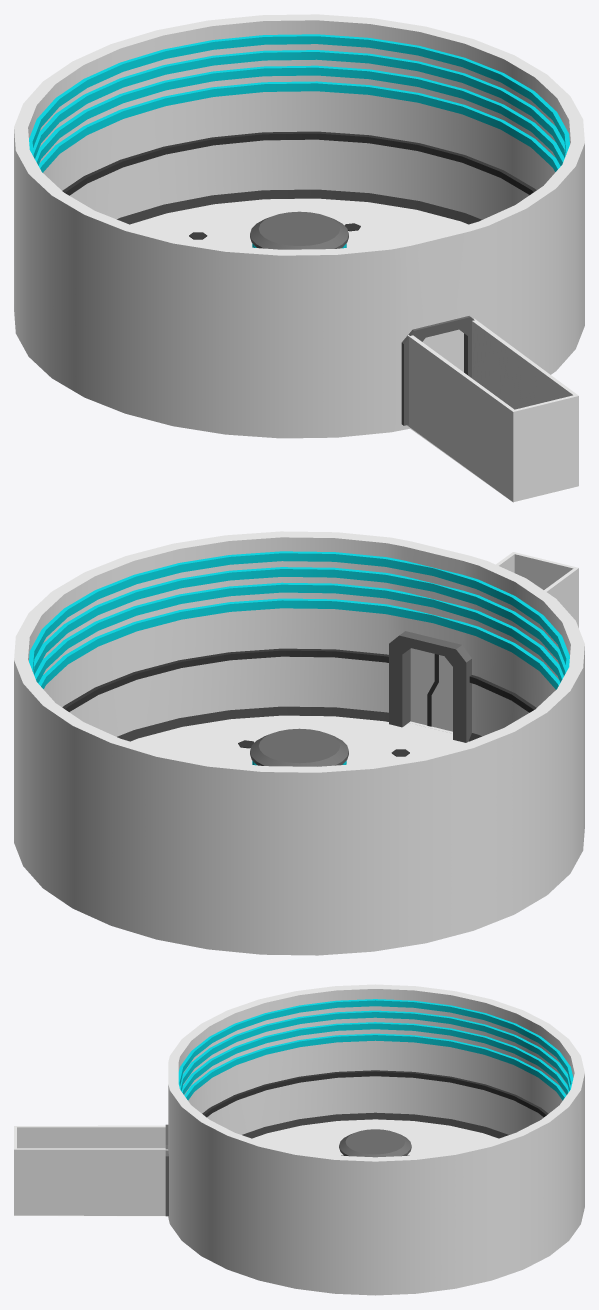
The model's file is ElevatorRoom (7).fbx.
3 views of the same model, one above another, from view 1: azimuth 30°, elevation 25°; view 2: azimuth 150°, elevation 25°; view 3: azimuth 270°, elevation 25° (orthographic). The views are drawn at different scales.
Parts seen in each view (by area): view 1: Room.001, Cylinder.007, Room.015, Room.007, Room.003, Room.014, Room.016, Room.008, Door1.006; view 2: Room.001, Cylinder.007, Room.007, Room.008, Room.016, Door1.006, Door2.006, Room.003, Room.015; view 3: Room.001, Cylinder.007, Room.014, Room.007, Room.015, Room.016.
Boxes of the visible parts, x1,y1,x2,y2 form: Room.001: [14, 14, 584, 438]; Cylinder.007: [29, 34, 569, 172]; Room.015: [407, 335, 514, 501]; Room.007: [130, 198, 468, 247]; Room.003: [513, 395, 578, 502]; Room.014: [472, 318, 578, 409]; Room.016: [250, 211, 348, 249]; Room.008: [401, 316, 474, 425]; Door1.006: [435, 329, 463, 372]; Room.001: [14, 531, 584, 955]; Cylinder.007: [29, 551, 569, 689]; Room.007: [131, 715, 468, 764]; Room.008: [389, 631, 471, 742]; Room.016: [250, 728, 348, 766]; Door1.006: [410, 648, 438, 725]; Door2.006: [427, 654, 452, 731]; Room.003: [513, 552, 578, 589]; Room.015: [544, 568, 578, 627]; Room.001: [168, 984, 584, 1295]; Cylinder.007: [178, 999, 573, 1100]; Room.014: [14, 1148, 168, 1215]; Room.007: [252, 1119, 498, 1155]; Room.015: [14, 1125, 165, 1148]; Room.016: [339, 1129, 411, 1157].
Size of the model in its own units: 1941 by 878 by 2644.
Materials: 1 (1 with a texture image).
